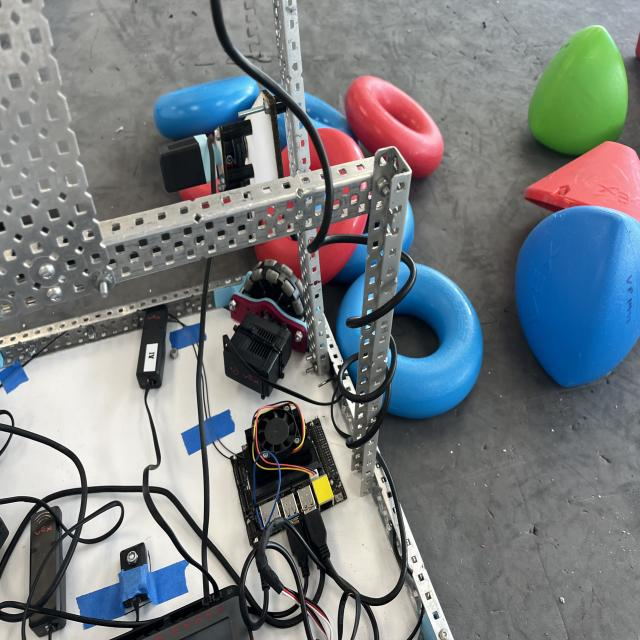Blue-Ring: (389, 263, 482, 418), (155, 75, 260, 137)
Red-Ring: (256, 128, 369, 286), (345, 77, 444, 178)
